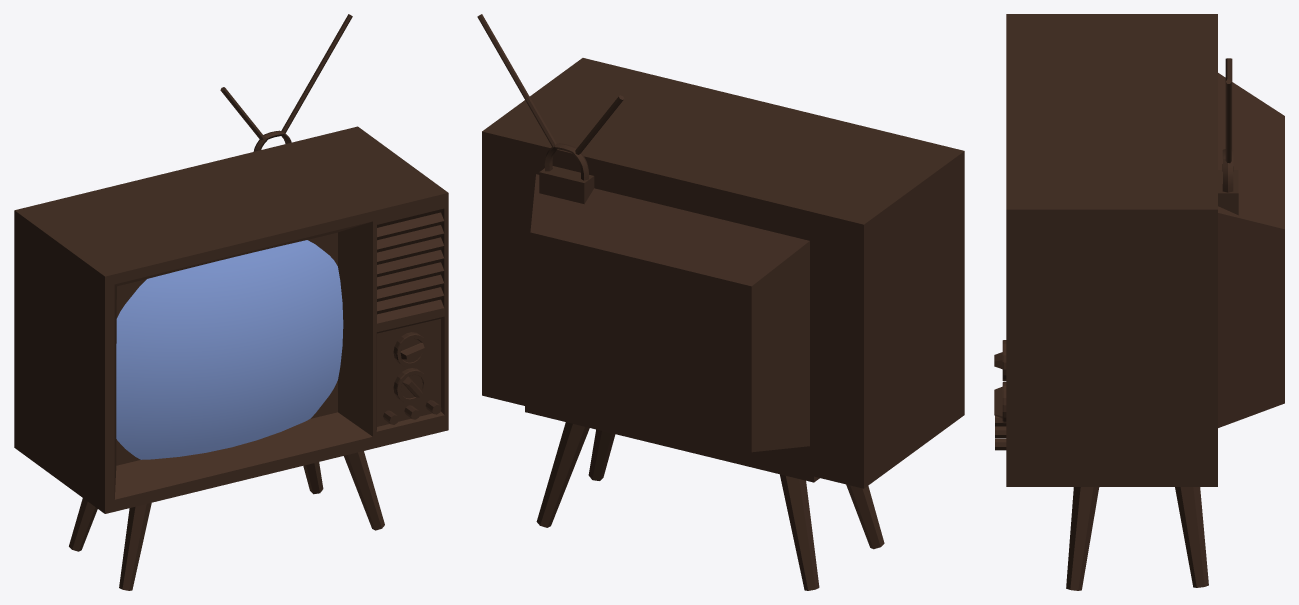
Rendered from Retro_TV_01_low.fbx.
3 views of the same model, side by side, from view 1: azimuth 30°, elevation 25°; view 2: azimuth 150°, elevation 25°; view 3: azimuth 270°, elevation 25° (orthographic). The views are drawn at different scales.
Parts seen in each view (by area): view 1: Retro_TV_01_Gehaeuse_low, Retro_TV_01_screen_low; view 2: Retro_TV_01_Gehaeuse_low; view 3: Retro_TV_01_Gehaeuse_low.
Boxes of the visible parts, <box> form: Retro_TV_01_Gehaeuse_low: <box>14,14,448,590</box>; Retro_TV_01_screen_low: <box>116,240,343,459</box>; Retro_TV_01_Gehaeuse_low: <box>477,14,964,590</box>; Retro_TV_01_Gehaeuse_low: <box>994,14,1284,590</box>.
Bounding box in the file's own units: 0.8004 × 1.02 × 0.5045.
